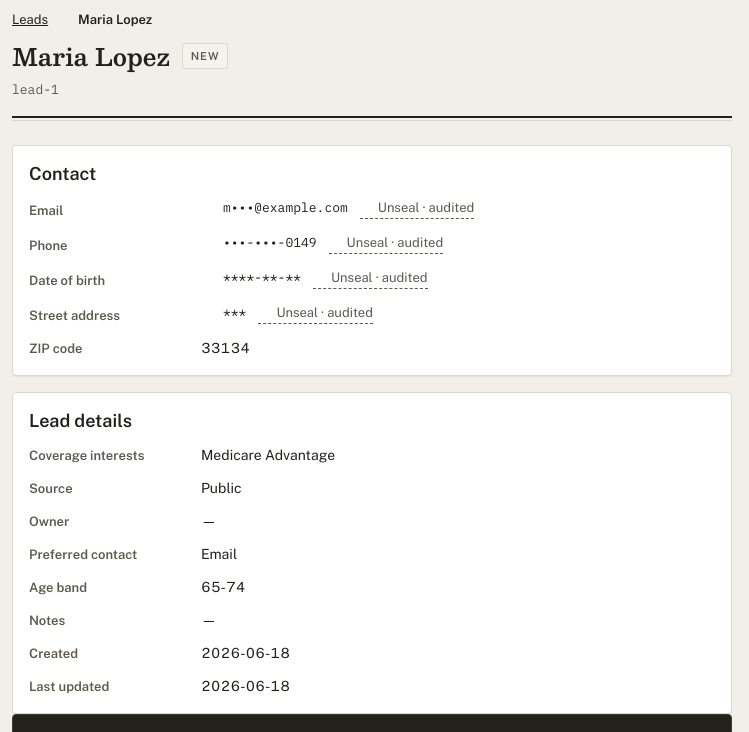
Test case: LeadDetailPage PII reveal (§6.4) › reveals a field through the inline confirm and marks it audited
// Open the confirm, then confirm.
Click the button with id "lead-detail-email-unseal" at [417, 208], box [360,198,474,219]
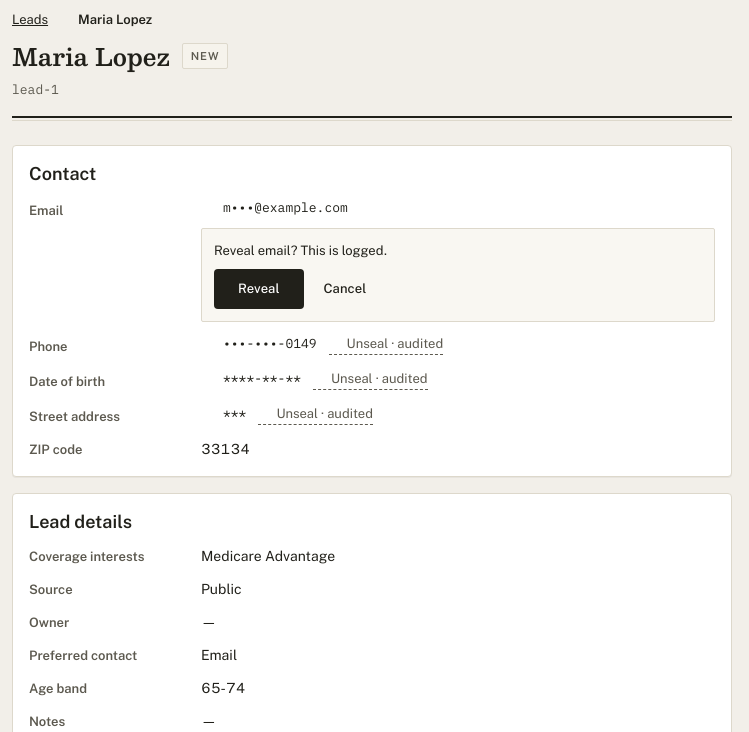
Now the element with id "lead-detail-email-confirm" is shown, box [201,228,715,322]
Click the button with id "lead-detail-email-confirm-button" at [259, 289], box [214,269,304,309]
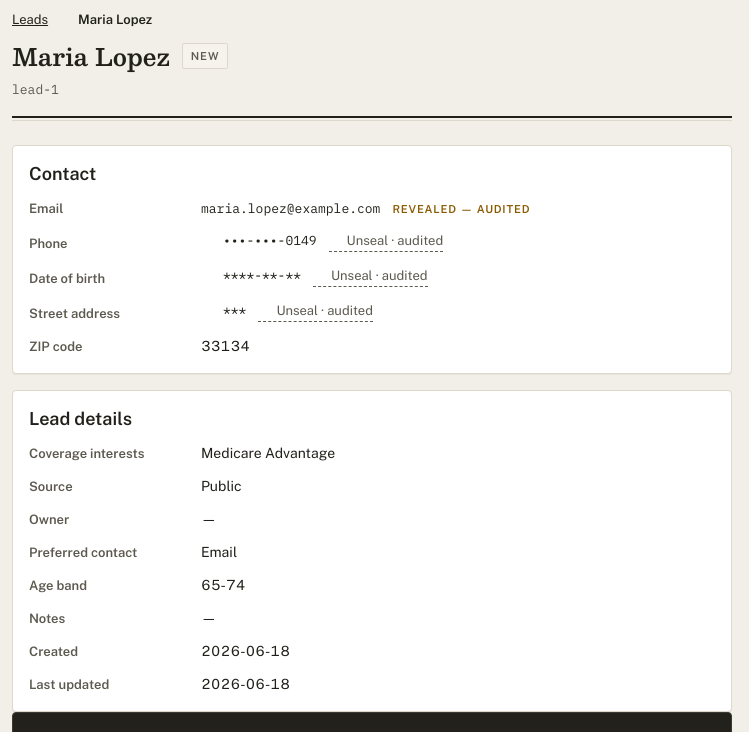
Expected: the text "maria.lopez@example.com" is shown, [201,199,380,219]
Now the text with id "lead-detail-email-revealed-value" reads "maria.lopez@example.com", box [201,200,380,217]
Now the text with id "lead-detail-email-revealed-marker" reads "revealed — audited", box [392,203,530,215]
